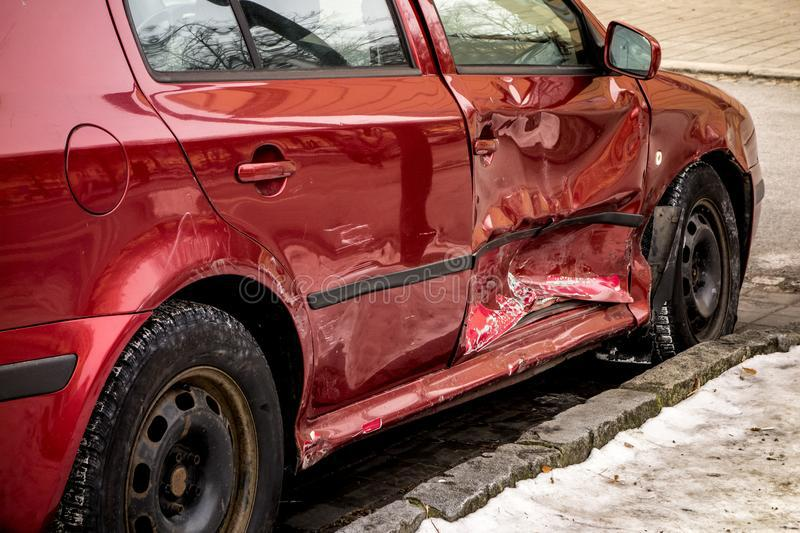RunningBoard-Dent: (297, 376, 441, 462), (465, 341, 591, 400)
doorouter-dent: (147, 78, 457, 375), (465, 76, 646, 329)
fender-dent: (648, 84, 742, 212)
